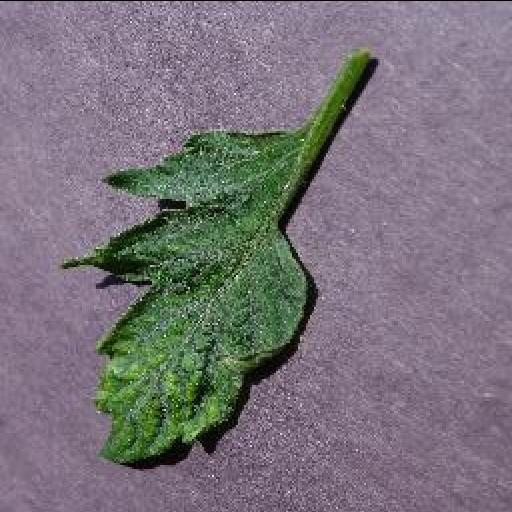disease_tomato: (56, 124, 316, 470)
